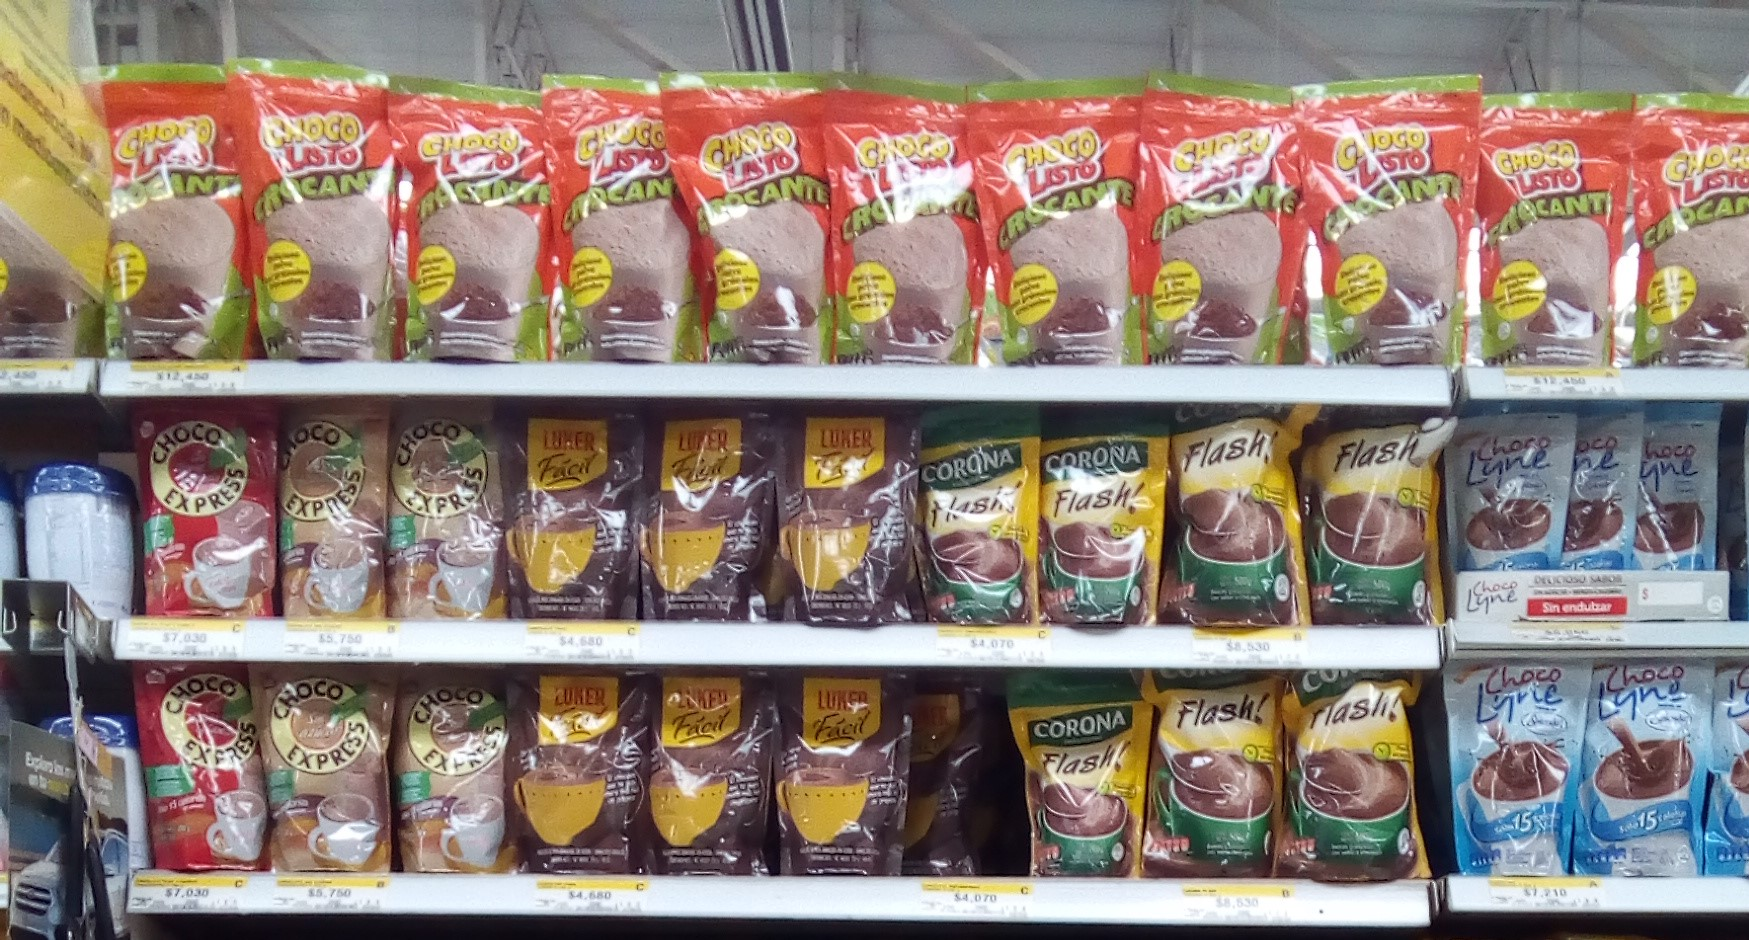COL0170102DYP50000: (1634, 86, 1746, 366)
